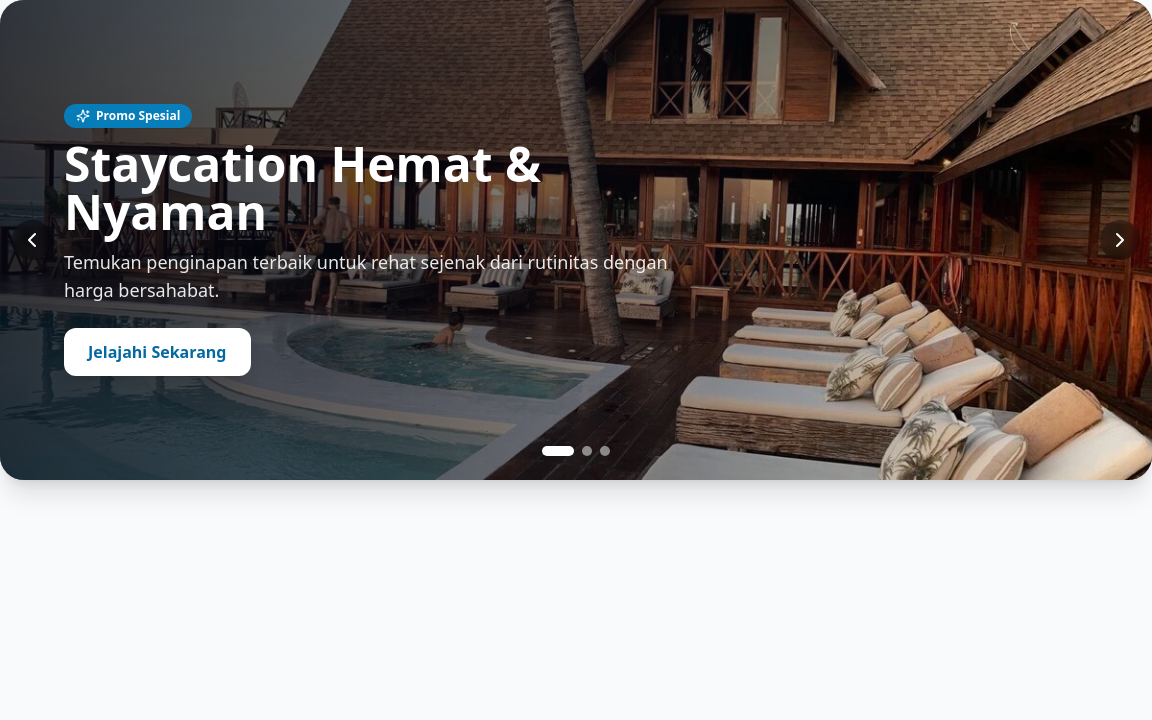
Test case: HeroCarousel Organism › navigates to next and previous slides using arrow controls
Click the button named "Slide berikutnya" at (1120, 240), box [1100,220,1140,260]
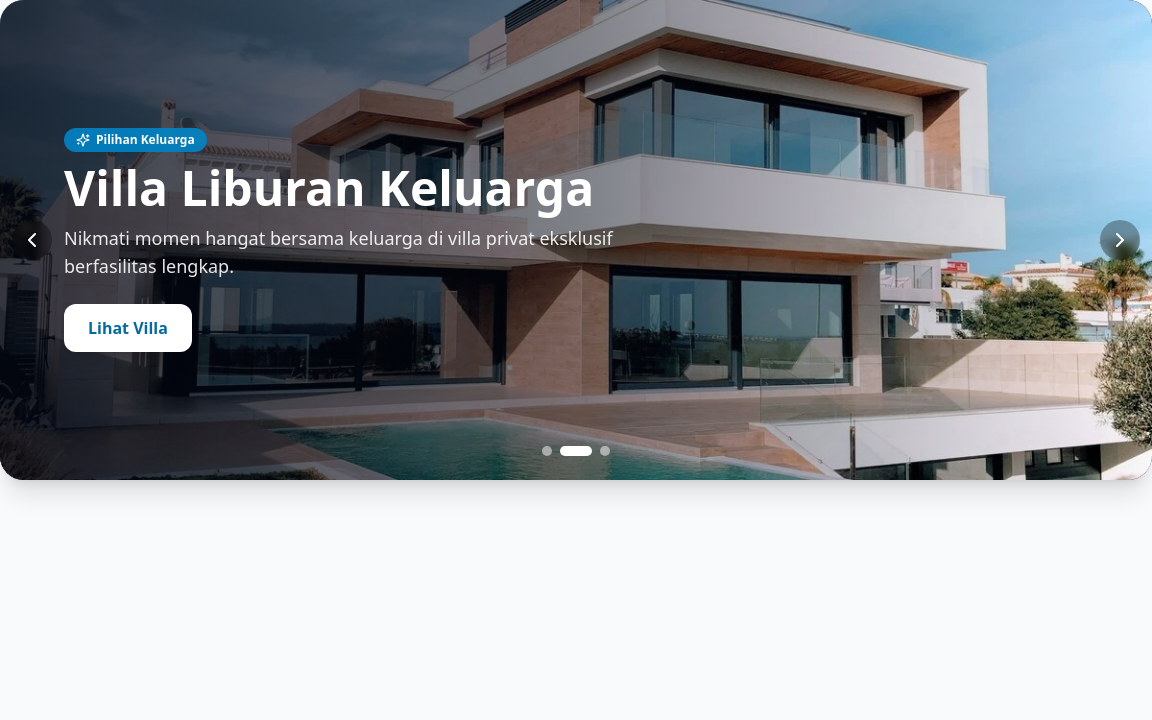
Expected: the heading "Villa Liburan Keluarga" is shown, [64,155,594,220]
Expected: the text "Pilihan Keluarga" is shown, [96,132,195,148]
Click the button named "Slide sebelumnya" at (32, 240), box [12,220,52,260]
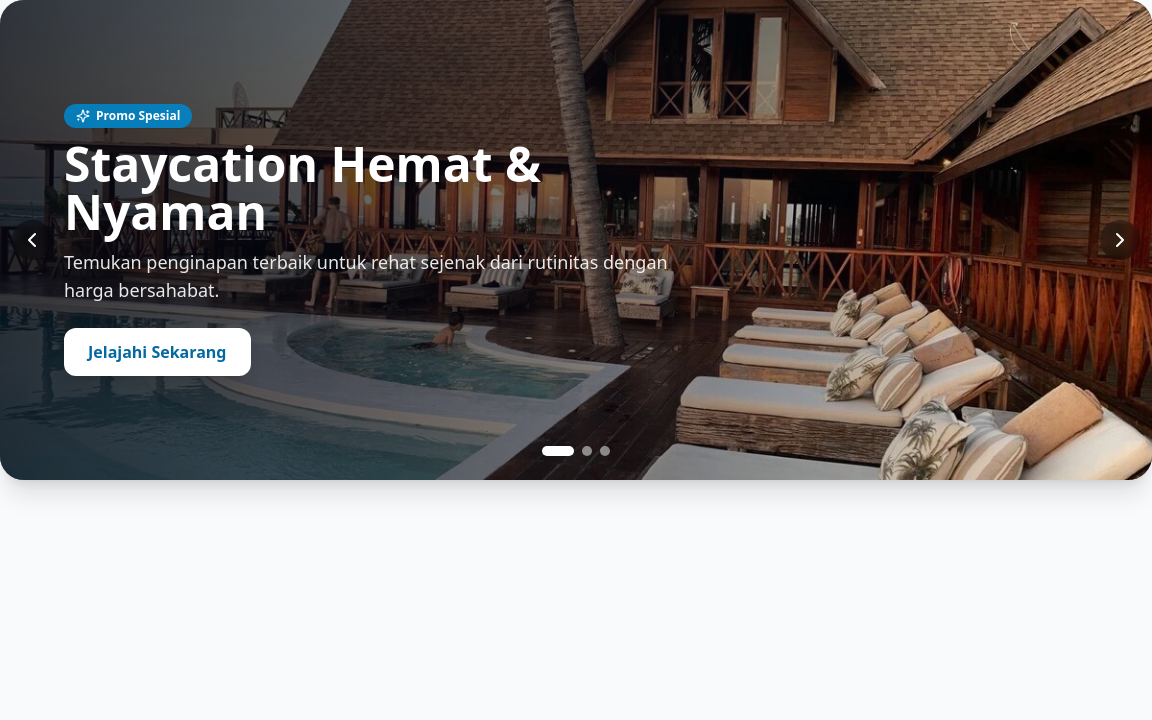
Expected: the heading "Staycation Hemat & Nyaman" is shown, [64,131,541,244]
